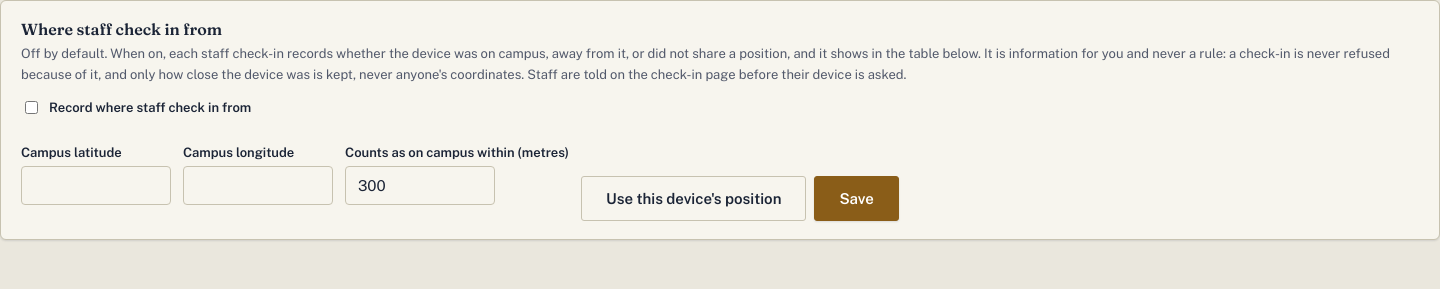
Test: the administrator's setting for it › shows the server's reason when it refuses a setting, as an alert
The image size is (1440, 289).
Click the checkbox labelled "Record where staff check in from" at {"x": 32, "y": 107}, box [25,101,38,114]
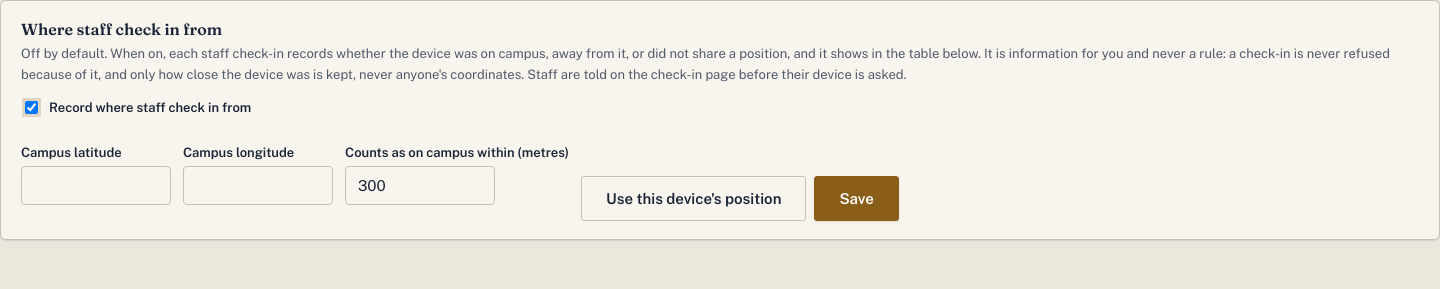
Click the button "Save" at {"x": 857, "y": 198}, box [814,176,899,221]
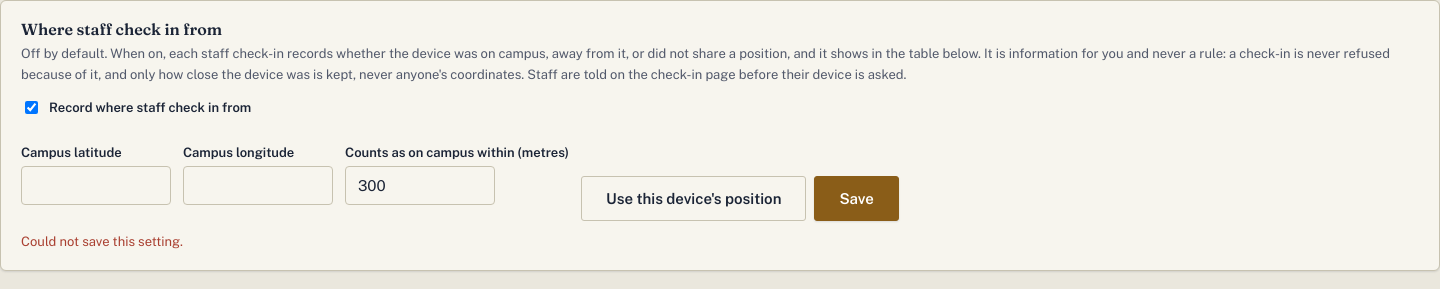
Expected: the message "Could not save this setting." is shown, [21,234,183,249]
